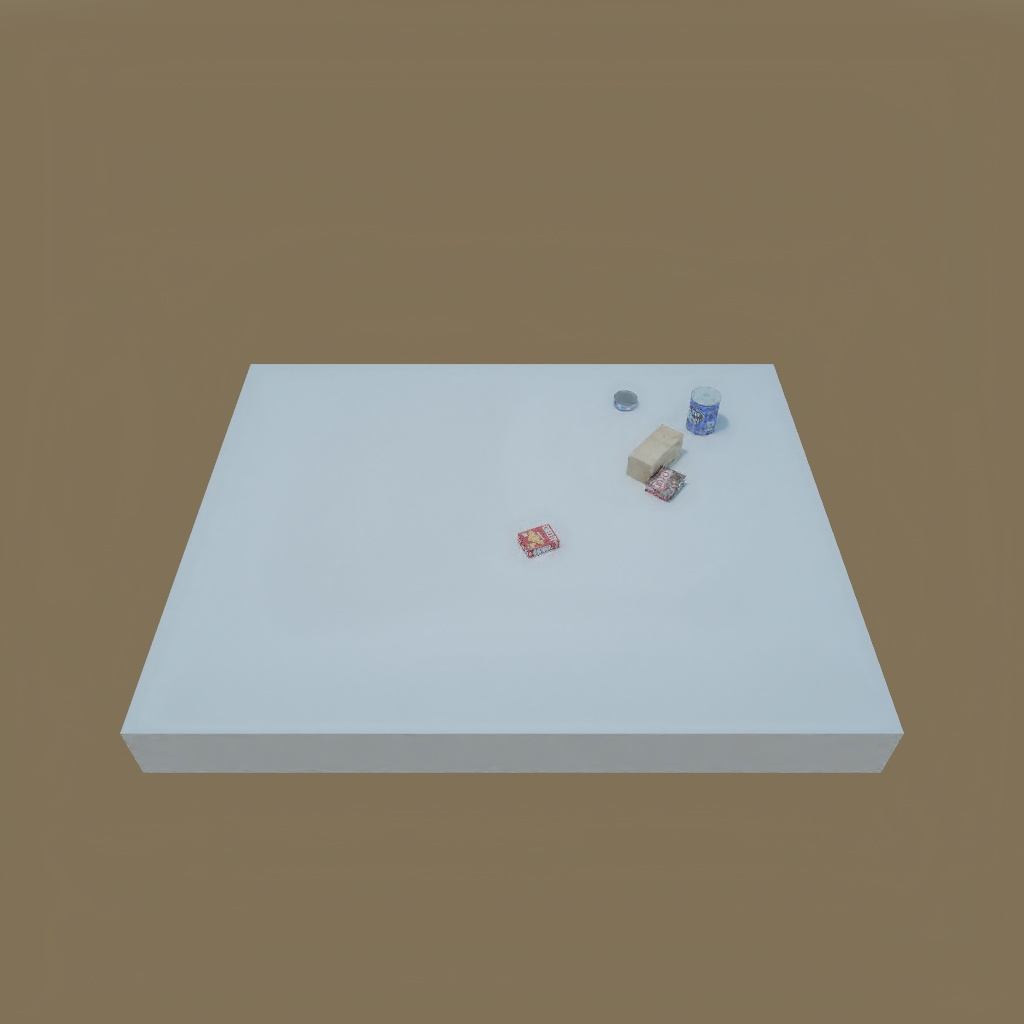master_chef_can: (686, 386, 721, 437)
pudding_box: (639, 470, 691, 504)
wood_block: (623, 425, 685, 479)
